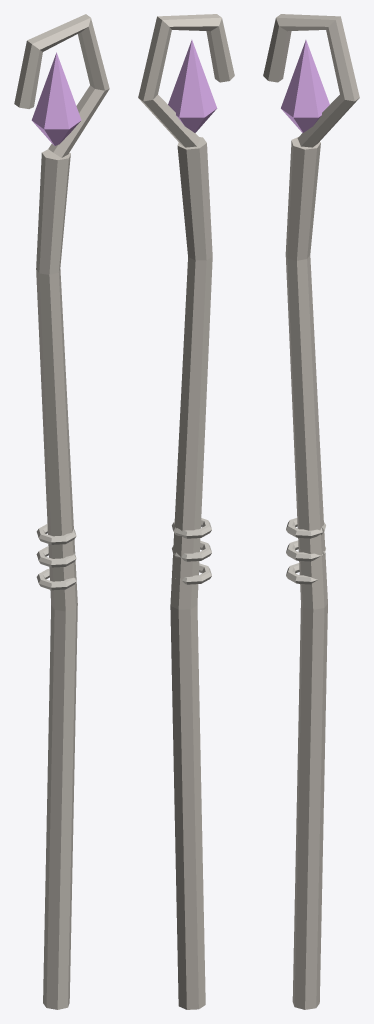
File: WoodStaff.fbx
The picture shows the model from 3 angles, left to right: view 1: azimuth 30°, elevation 25°; view 2: azimuth 210°, elevation 25°; view 3: azimuth 330°, elevation 25°; orthographic projection.
Parts seen in each view (by area): view 1: Prop_WoodStaff; view 2: Prop_WoodStaff; view 3: Prop_WoodStaff.
Boxes of the visible parts, x1=… form: Prop_WoodStaff: x1=14, y1=14, x2=109, y2=1009; Prop_WoodStaff: x1=138, y1=14, x2=234, y2=1009; Prop_WoodStaff: x1=263, y1=14, x2=359, y2=1009.
Bounding box in the file's own units: 0.1671 × 1.73 × 0.08.
